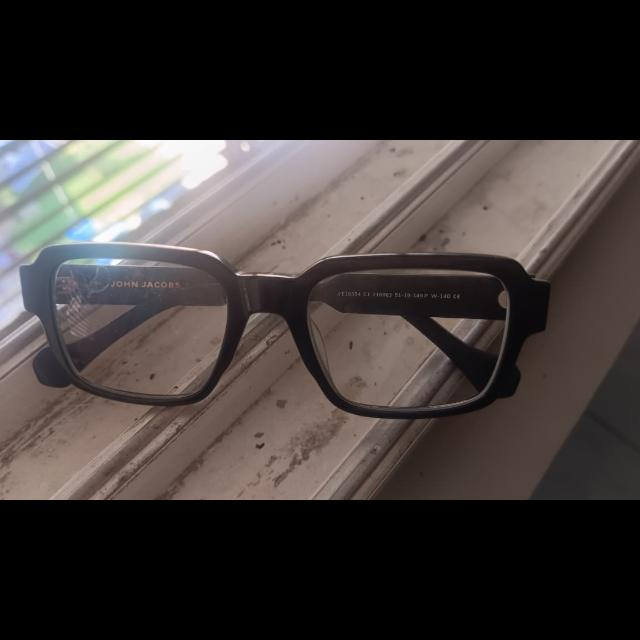glasses: (24, 244, 542, 418)
